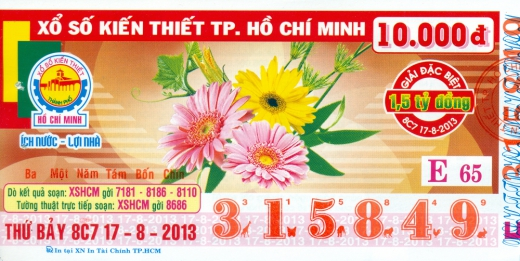serial_zone: (205, 193, 497, 245)
